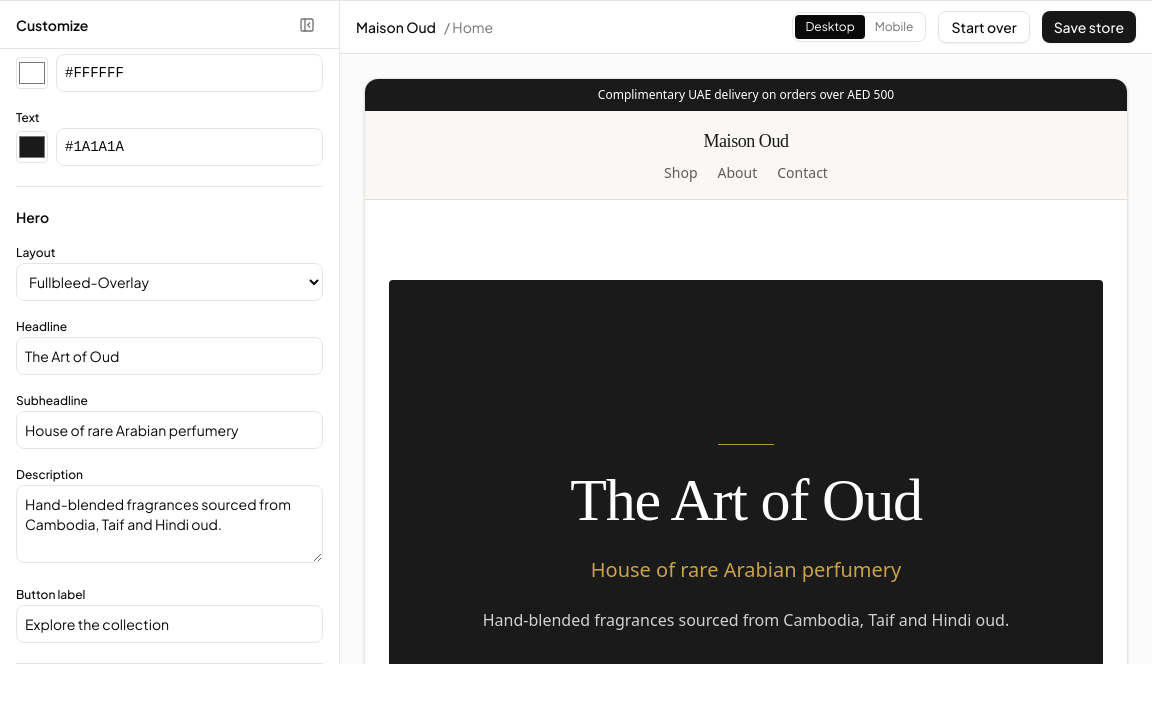
Scenario: StoreEditor (editor ↔ live preview) › saves a new store: POSTs /api/stores, then markSaved clears the dirty badge
(page scrolled)
Type "!" into the field labelled "Headline".
click(170, 356); type("!")  # box x1=16 y1=337 x2=323 y2=375
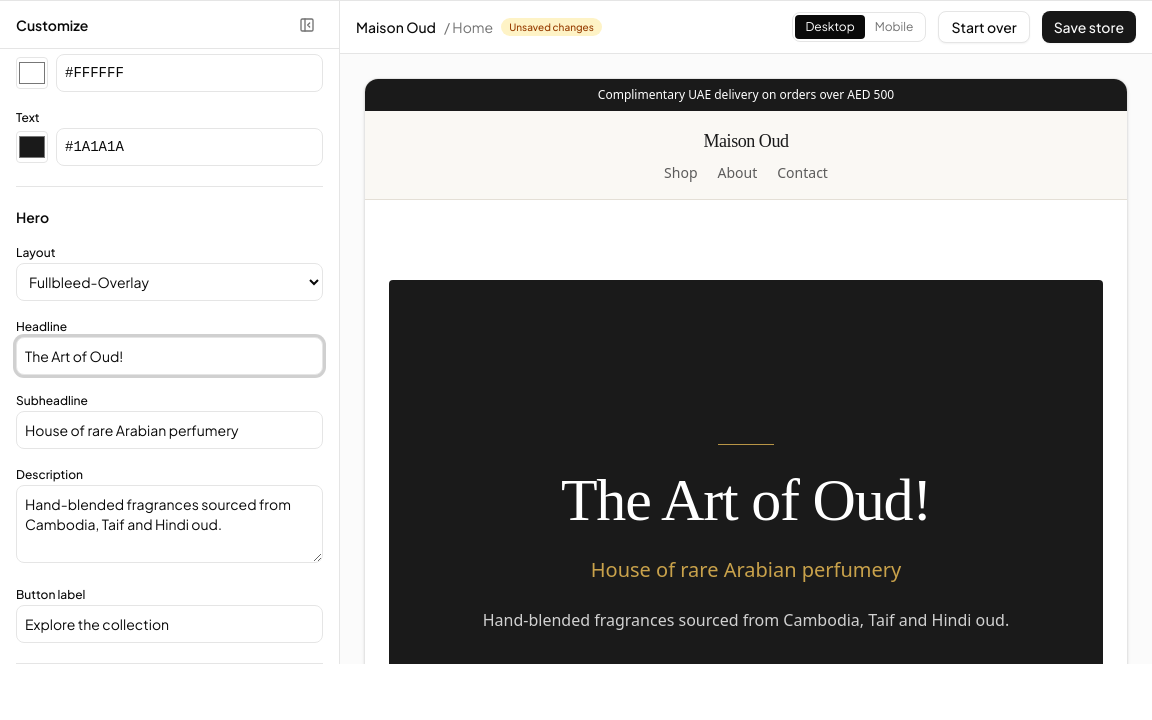
Result: the text "Unsaved changes" is shown at x1=501 y1=18 x2=602 y2=36
Click the button "Save store".
click(1089, 27)  # box x1=1042 y1=11 x2=1136 y2=43
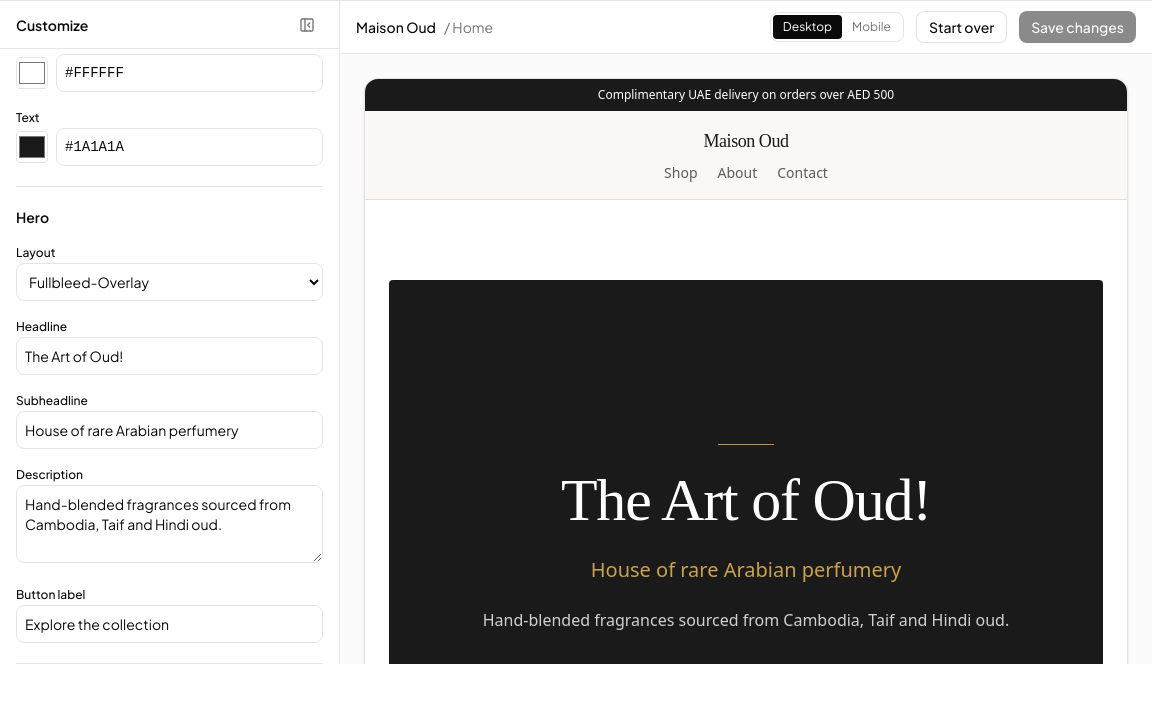
Result: the text "Unsaved changes" is gone
